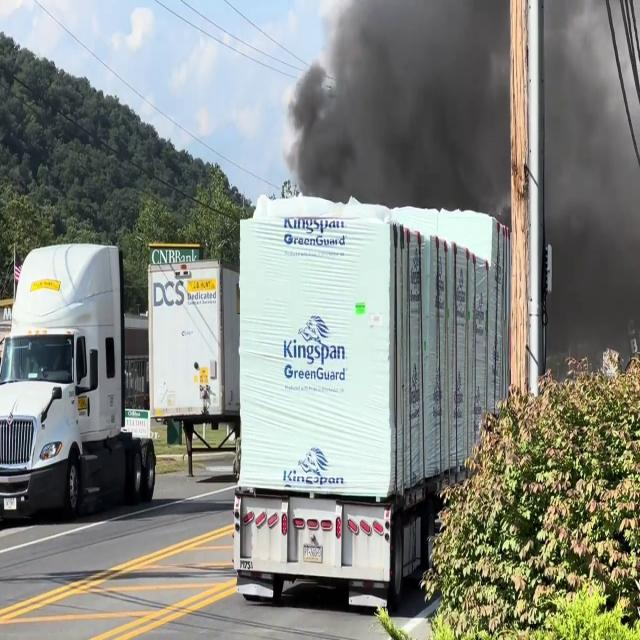Smoke: (284, 0, 510, 218), (538, 1, 640, 384)
